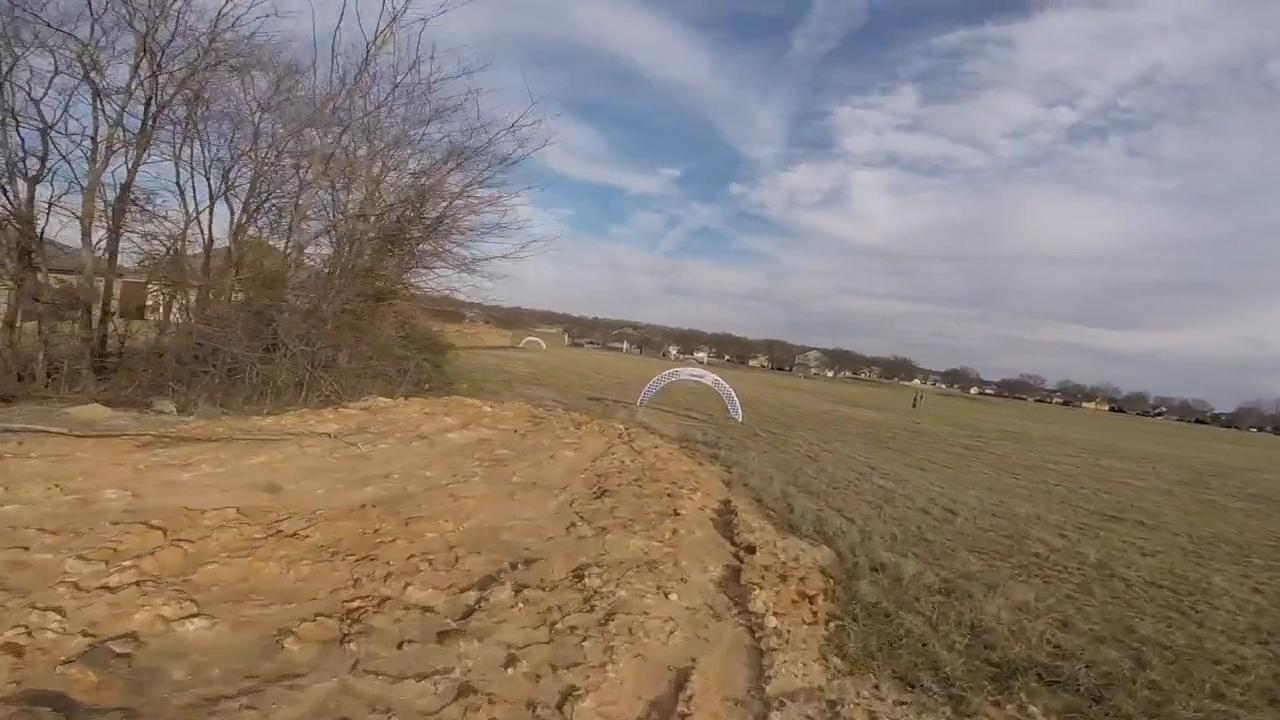gate: (636, 367, 740, 424)
